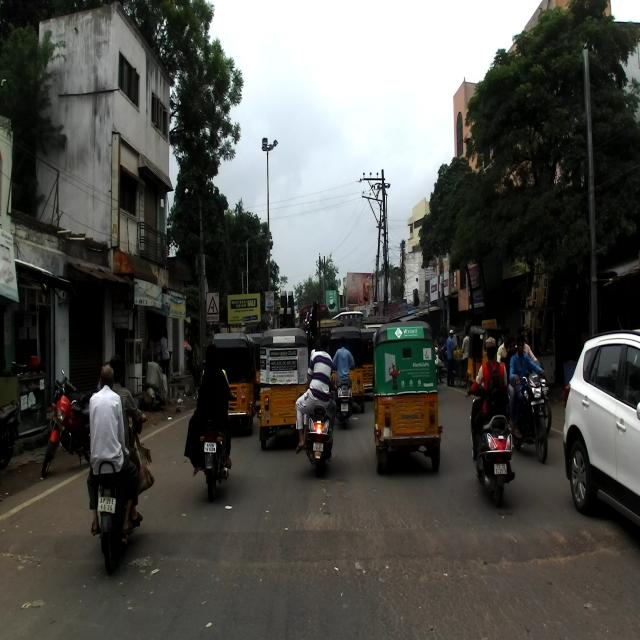autorickshaw: (368, 320, 442, 479), (258, 326, 308, 451)
motorcycle: (85, 410, 148, 573), (39, 379, 94, 478), (196, 391, 236, 502), (506, 370, 548, 465)
scooter: (466, 385, 515, 507), (303, 384, 336, 479)
